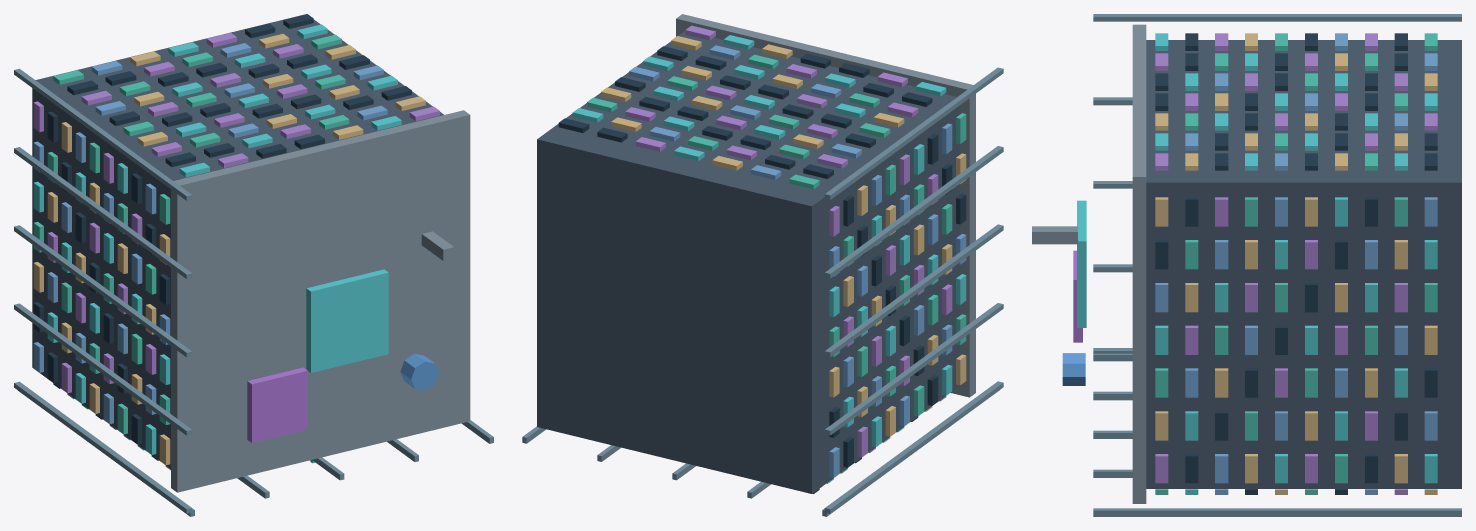
Rendered from residential.glb.
3 views of the same model, side by side, from view 1: azimuth 30°, elevation 25°; view 2: azimuth 150°, elevation 25°; view 3: azimuth 270°, elevation 25° (orthographic). The views are drawn at different scales.
Visible parts, largest first — view 1: geometry_0; view 2: geometry_0; view 3: geometry_0.
Part boxes in pixels (bbox=[...]): geometry_0: bbox=[14, 14, 493, 516]; geometry_0: bbox=[522, 14, 1003, 516]; geometry_0: bbox=[1032, 14, 1461, 516].
Bounding box in the file's own units: 0.986 × 0.996 × 1.12.
